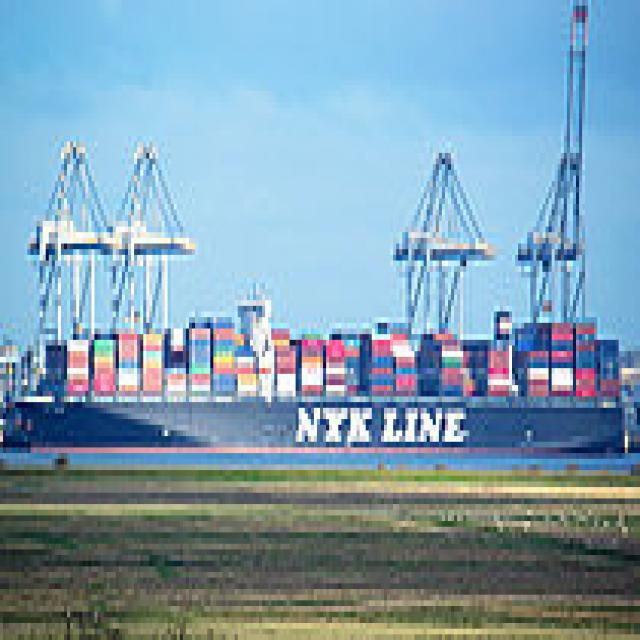Ship: (7, 302, 638, 477)
